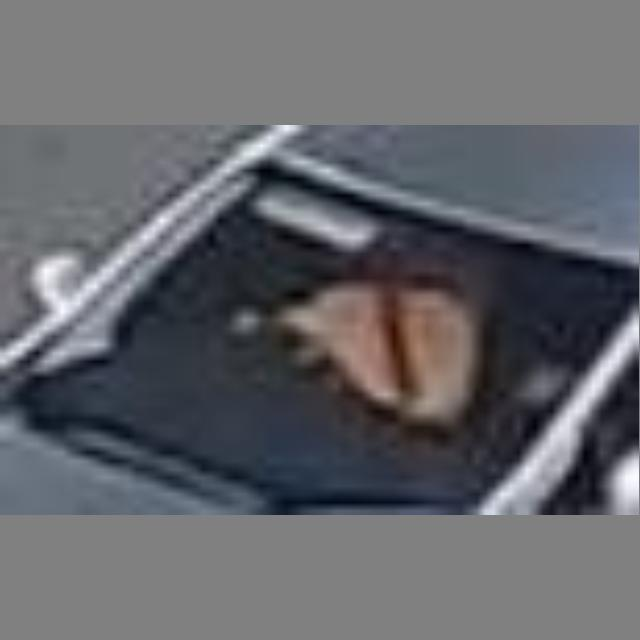pakai: (224, 208, 474, 433)
